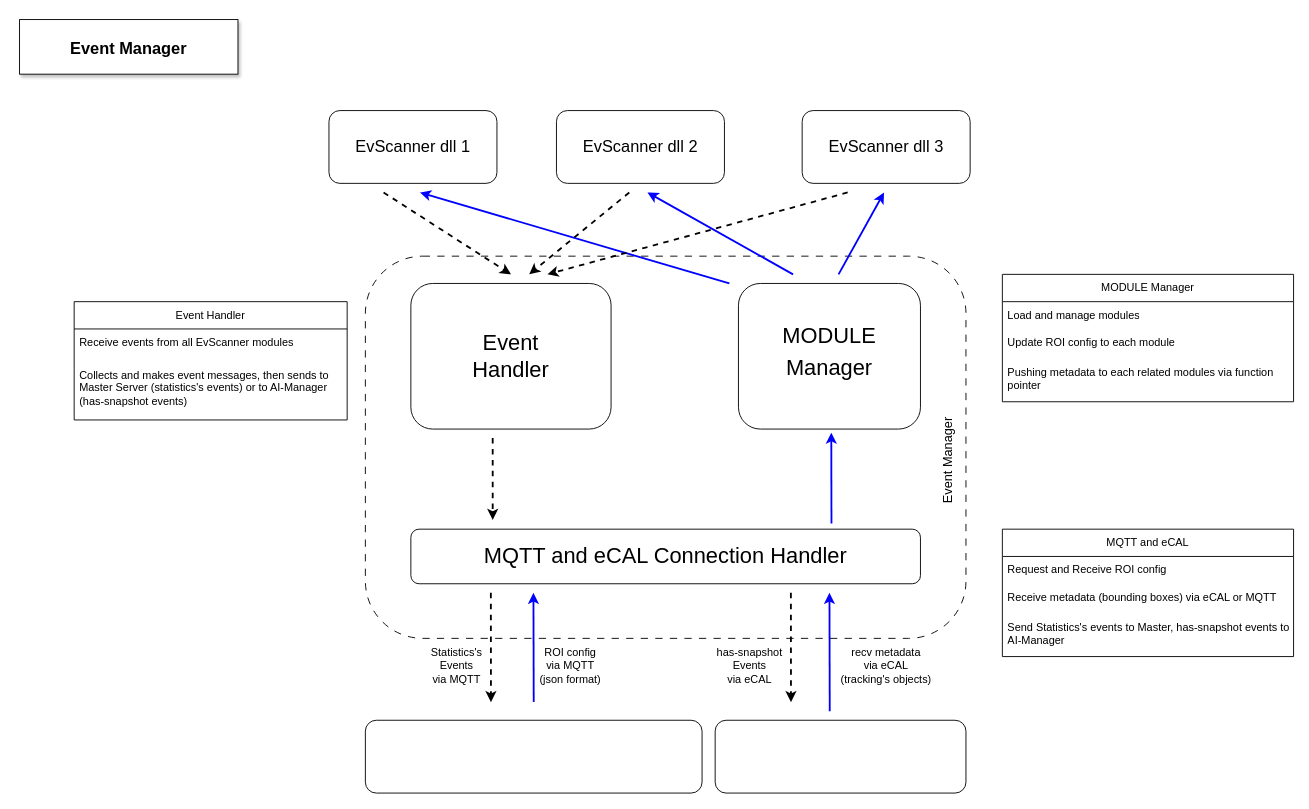
This 1309x809 diagram has some shape labels left out. The shapes that lost their labels are listed below. From the top down, each one's centre as x and y in pixels, then its label:
At point (533, 756): "Master Server".
At point (840, 756): "AI-Manager".
